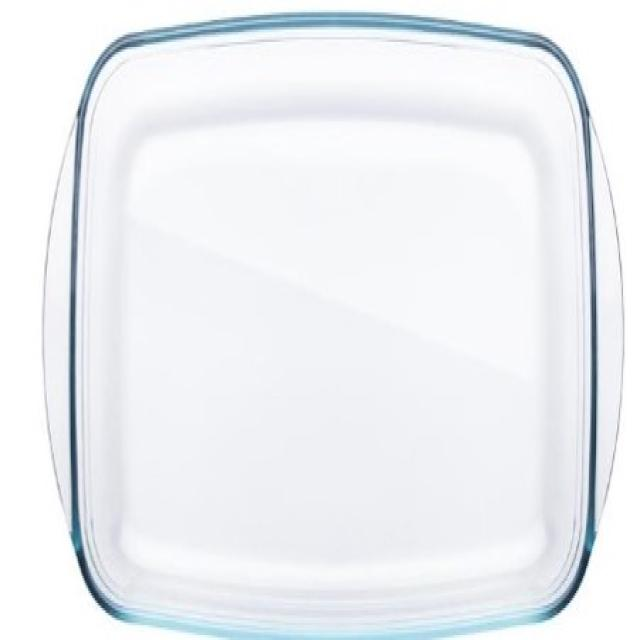electronic: (38, 12, 627, 640)
